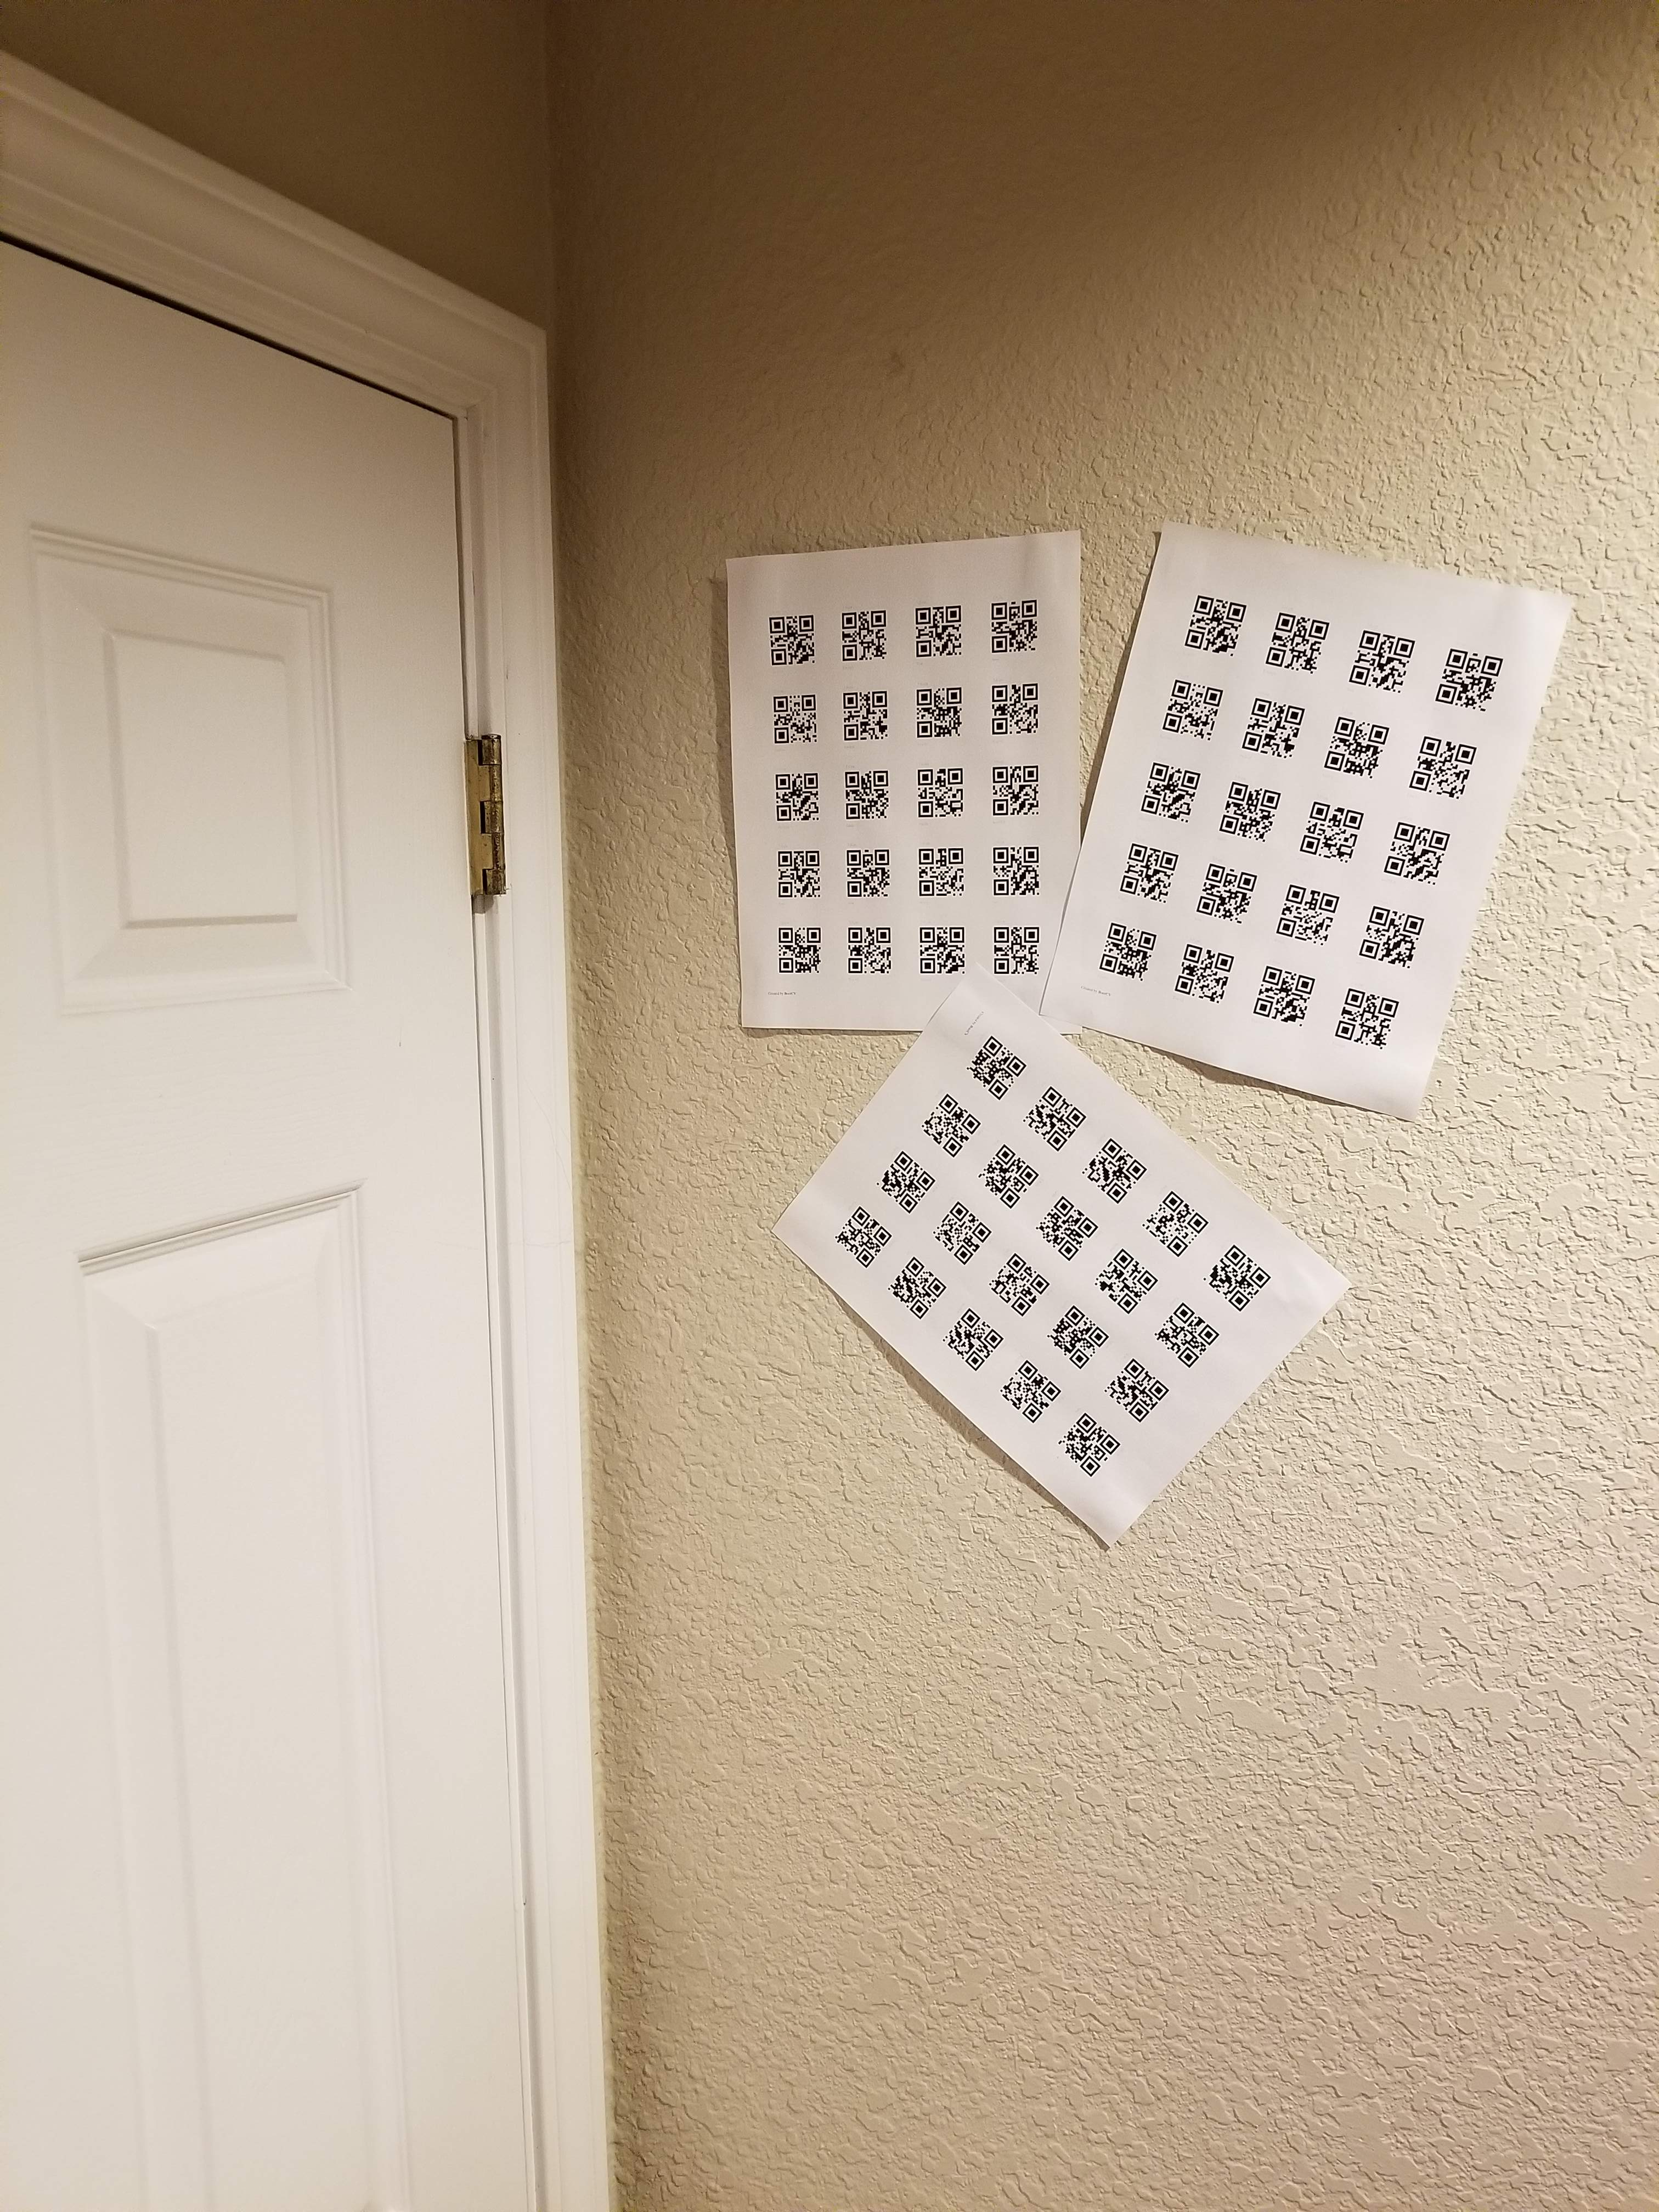QR_CODE: (1427, 636, 1507, 721), (1399, 728, 1486, 805), (1199, 1237, 1281, 1317), (1148, 1292, 1229, 1374), (1258, 599, 1335, 683), (1377, 813, 1459, 890), (1344, 618, 1420, 698), (1236, 690, 1310, 770), (821, 1195, 896, 1275), (913, 1083, 986, 1165), (1352, 900, 1436, 972), (1054, 1409, 1134, 1482), (1100, 1355, 1182, 1426), (751, 596, 826, 672), (1317, 711, 1394, 786), (938, 1299, 1011, 1378), (884, 1249, 958, 1324), (1328, 982, 1405, 1055), (1136, 1188, 1213, 1261), (1176, 583, 1248, 662), (1290, 796, 1368, 867), (1133, 752, 1204, 829), (1270, 880, 1347, 951), (871, 1139, 943, 1216), (974, 1139, 1047, 1212), (983, 1247, 1056, 1320), (1155, 672, 1230, 744), (1188, 857, 1263, 928), (962, 1026, 1032, 1103), (1079, 1130, 1148, 1207), (999, 1359, 1072, 1430), (979, 587, 1049, 662), (1112, 834, 1183, 906), (1168, 937, 1239, 1008), (1032, 1191, 1103, 1263), (1091, 918, 1164, 988), (1246, 961, 1319, 1031), (1089, 1247, 1164, 1315), (1211, 775, 1283, 845), (1023, 1082, 1091, 1155), (981, 671, 1046, 747), (901, 592, 971, 662), (931, 1197, 995, 1268), (1047, 1301, 1112, 1372), (828, 597, 894, 665), (763, 683, 828, 751), (906, 838, 971, 904), (910, 914, 972, 982), (910, 679, 969, 751), (830, 685, 894, 747), (983, 838, 1046, 902), (983, 921, 1047, 984), (985, 758, 1047, 820), (908, 763, 972, 824), (835, 761, 894, 827), (770, 914, 828, 982), (765, 765, 826, 827), (765, 840, 826, 902), (836, 920, 897, 982), (838, 841, 897, 902)
